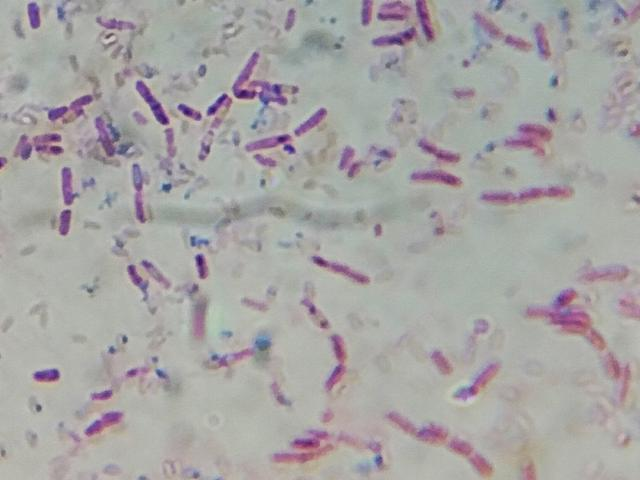E. coli: (315, 245, 377, 285), (484, 186, 575, 209), (138, 77, 170, 128), (414, 163, 466, 191), (323, 336, 351, 387), (579, 256, 628, 283), (130, 164, 152, 222), (412, 0, 439, 46), (141, 256, 175, 291), (471, 8, 506, 42), (297, 102, 331, 137), (295, 293, 326, 331), (608, 355, 633, 402), (93, 113, 117, 160), (207, 348, 260, 369), (191, 250, 219, 289), (275, 449, 333, 467), (417, 140, 464, 162), (333, 145, 363, 179), (369, 28, 419, 48), (573, 322, 604, 354), (234, 48, 266, 79), (85, 412, 128, 435), (535, 19, 557, 62), (526, 305, 570, 326), (122, 260, 146, 298), (473, 363, 503, 393), (33, 362, 71, 385), (251, 82, 304, 98), (248, 132, 291, 151), (616, 291, 640, 325), (466, 450, 495, 477), (22, 1, 49, 30), (426, 342, 449, 376), (238, 92, 284, 109), (98, 13, 133, 35), (518, 114, 550, 138), (59, 167, 79, 204), (506, 134, 543, 152), (199, 124, 218, 158), (506, 32, 534, 54), (9, 138, 33, 163), (379, 3, 406, 25), (356, 0, 378, 27), (56, 208, 74, 241), (415, 423, 445, 442), (279, 4, 298, 34), (91, 386, 118, 407), (179, 102, 202, 126), (449, 435, 472, 458), (251, 153, 275, 173), (33, 131, 64, 146), (208, 92, 231, 112), (70, 92, 94, 110), (45, 104, 69, 121), (305, 427, 337, 439), (38, 145, 67, 158), (385, 410, 400, 432), (289, 436, 314, 448)
